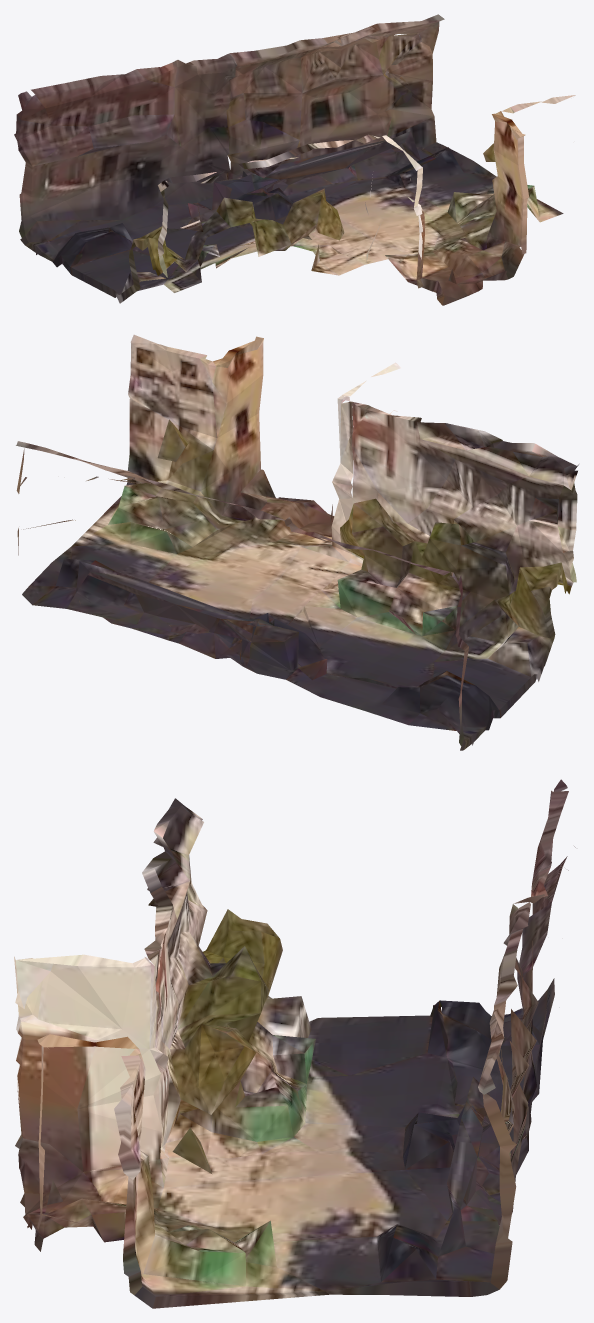
3 renders of one model, top to bottom at view 1: azimuth 30°, elevation 25°; view 2: azimuth 150°, elevation 25°; view 3: azimuth 270°, elevation 25°, orthographic. The views are drawn at different scales.
Visible parts, largest first — view 1: Mesh_0; view 2: Mesh_0; view 3: Mesh_0.
Boxes of the visible parts, box(x1,y1,x2,y2) form: Mesh_0: box(14, 14, 575, 305); Mesh_0: box(16, 334, 578, 750); Mesh_0: box(14, 779, 575, 1308).
Size of the model in its own units: 31.57 by 11.22 by 23.56.
Materials: 1 (1 with a texture image).
